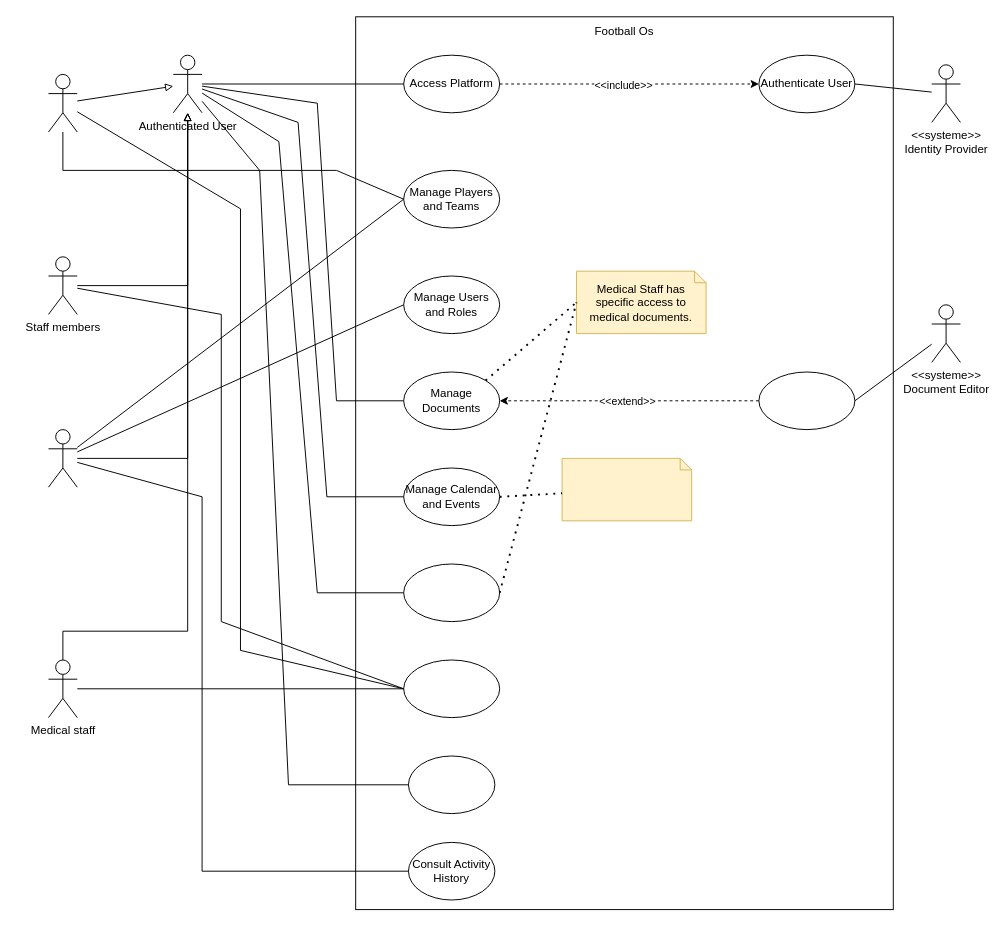
This 1005x926 diagram has some shape labels left out. Each missing label, with the centre of its shape:
"Club administrator" belongs at (x=62, y=458).
"Consult Notifications" belongs at (x=451, y=688).
"Consult Player Profiles" belongs at (x=451, y=592).
"Edit/view Documents Online" belongs at (x=806, y=400).
"Head coach" belongs at (x=62, y=102).
"Only Head Coach can create, modify, and delete events." belongs at (x=626, y=489).
"Search Resources" belongs at (x=451, y=784).
